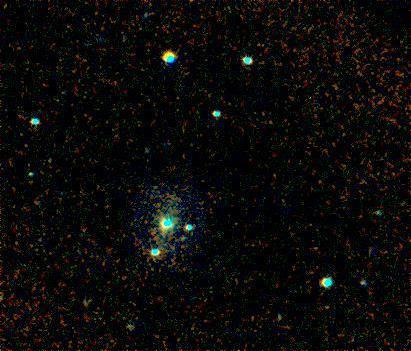star: (312, 293, 342, 323)
